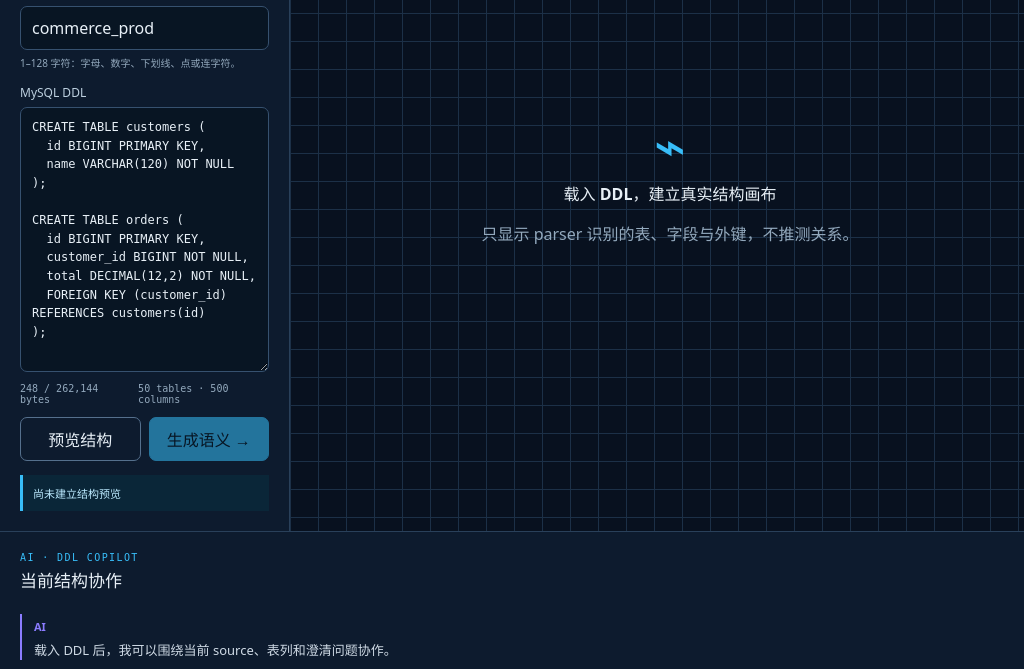
Test: workbench chat › keeps the submission coordinate after a malformed successful response
What coordinates should you click on to do the following:
click the button "预览结构"
I would click on:
 (80, 439)
Its box is x1=20 y1=417 x2=140 y2=461.
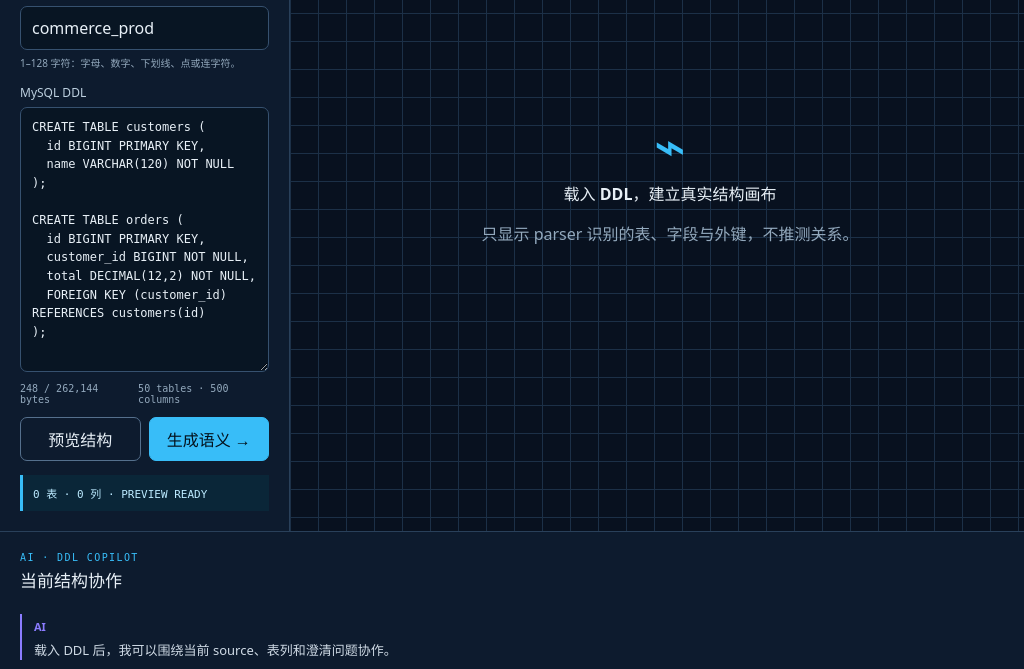
Now the button "生成语义 →" is enabled
What coordinates should you click on to do the following:
click the button "生成语义 →"
I would click on:
 (209, 439)
Its box is x1=148 y1=417 x2=269 y2=461.
(page scrolled)
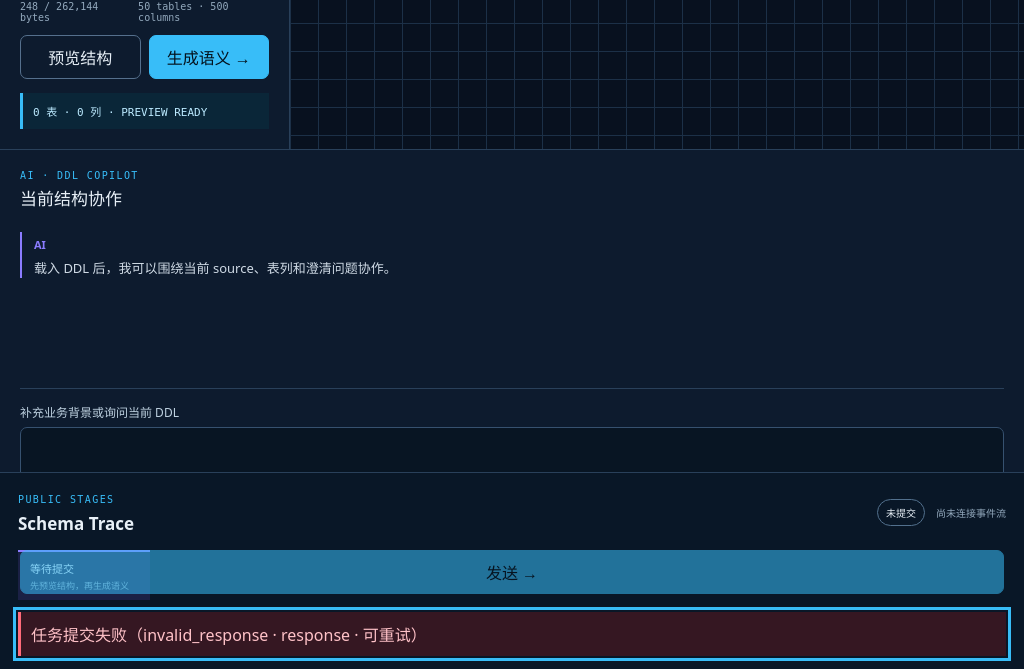
Now the text "任务提交失败（invalid_response · response · 可重试）" is shown, box x1=18 y1=612 x2=1006 y2=656
